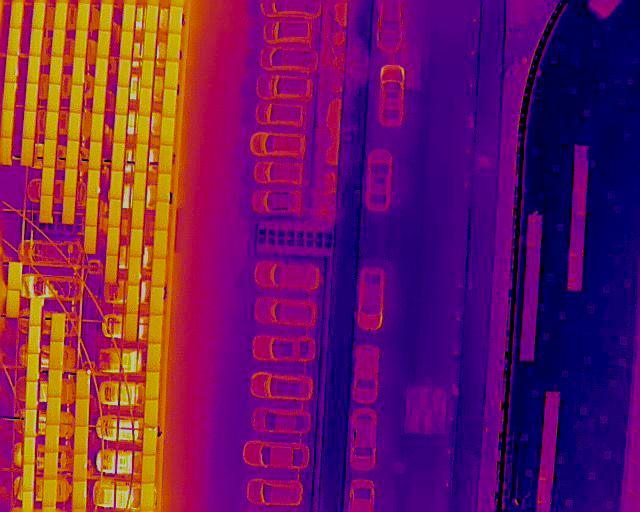Cell: (77, 370, 91, 398), (74, 454, 87, 481)
Cell-Multi: (144, 426, 157, 455)
No-Anomaly: (31, 2, 46, 30), (152, 258, 166, 287), (22, 111, 36, 140), (97, 30, 111, 59), (27, 56, 41, 85), (24, 83, 38, 112), (154, 231, 168, 259), (106, 227, 120, 255), (51, 314, 65, 342), (146, 371, 160, 399), (88, 142, 102, 170), (21, 138, 35, 166), (99, 3, 113, 31), (76, 3, 90, 31), (51, 29, 65, 57), (2, 82, 16, 110), (120, 30, 133, 60), (8, 262, 22, 289), (7, 29, 21, 56), (10, 2, 24, 29), (43, 480, 57, 507), (95, 59, 109, 86), (108, 198, 121, 227), (132, 200, 145, 229), (156, 201, 169, 230), (149, 315, 162, 344), (163, 88, 176, 117), (67, 140, 80, 169), (160, 144, 173, 173), (50, 55, 63, 84), (141, 59, 154, 88), (85, 198, 98, 226), (106, 255, 119, 283), (7, 289, 20, 317), (49, 369, 62, 397), (148, 343, 161, 371), (51, 342, 64, 370), (30, 28, 43, 56), (47, 397, 60, 425), (76, 399, 89, 427), (1, 109, 14, 137), (68, 112, 81, 140), (91, 113, 104, 141), (64, 169, 77, 197), (54, 3, 68, 29), (43, 140, 56, 168), (42, 168, 55, 196), (62, 197, 75, 225), (170, 6, 183, 34), (143, 455, 156, 483), (46, 425, 59, 453), (75, 30, 88, 58), (75, 426, 88, 454), (72, 57, 85, 85), (118, 59, 131, 87), (47, 84, 60, 112), (70, 85, 83, 113), (116, 87, 129, 115), (84, 226, 97, 253), (45, 112, 58, 139), (110, 172, 123, 199), (45, 453, 58, 480), (143, 32, 156, 59), (141, 482, 154, 509), (5, 56, 18, 83), (93, 87, 106, 114), (136, 144, 148, 173), (158, 173, 170, 202), (146, 6, 159, 32), (122, 5, 135, 31), (40, 196, 53, 222), (152, 287, 164, 315), (27, 354, 39, 382), (26, 381, 38, 409), (146, 399, 158, 427), (88, 170, 100, 198), (162, 117, 174, 145), (114, 115, 126, 143), (0, 138, 12, 166), (113, 143, 125, 171), (25, 409, 37, 437), (166, 61, 178, 89), (126, 314, 138, 341), (134, 173, 146, 200), (168, 34, 180, 61), (140, 88, 152, 115), (131, 228, 142, 257), (128, 285, 139, 314), (139, 115, 150, 144), (129, 258, 141, 284), (29, 326, 40, 354), (30, 299, 41, 326), (25, 437, 36, 464), (24, 464, 35, 491)
Unclassified: (73, 481, 87, 509)
